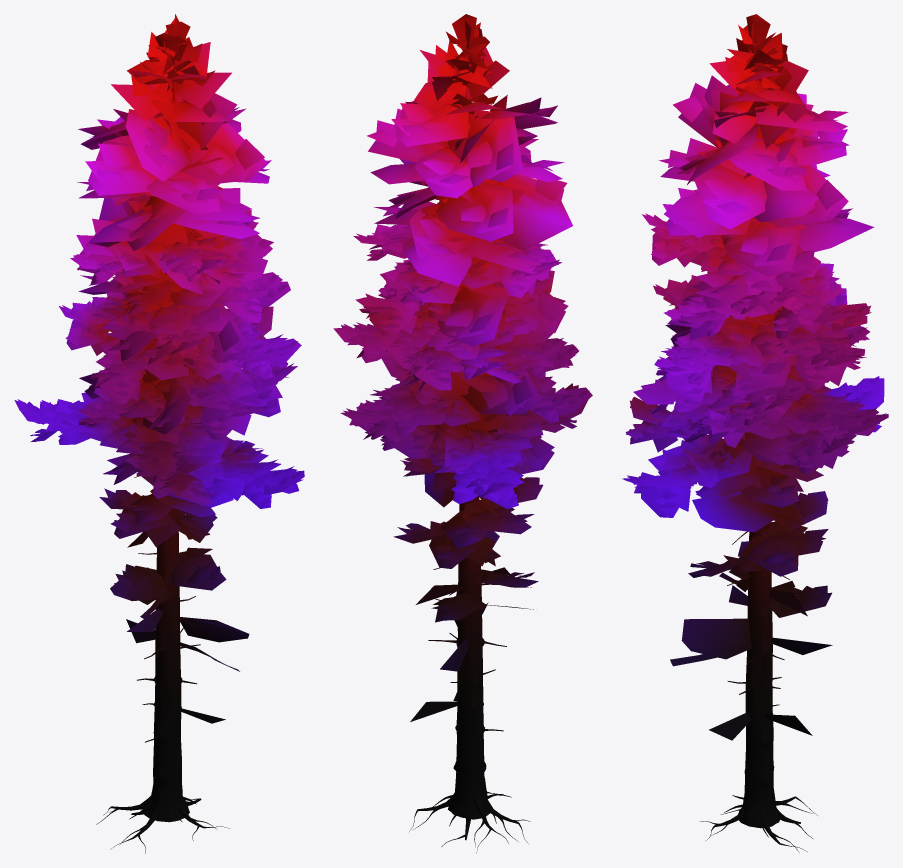
Rendered from Fir_05_Standalone_advanced_cheap.FBX.
3 renders of one model, left to right at view 1: azimuth 30°, elevation 25°; view 2: azimuth 150°, elevation 25°; view 3: azimuth 270°, elevation 25°, orthographic.
Parts seen in each view (by area): view 1: Fir_05_leaves_LOD0, Fir_05_bark_LOD0; view 2: Fir_05_leaves_LOD0, Fir_05_bark_LOD0; view 3: Fir_05_leaves_LOD0, Fir_05_bark_LOD0.
Boxes of the visible parts, <box> form: Fir_05_leaves_LOD0: <box>14,14,304,723</box>; Fir_05_bark_LOD0: <box>96,69,254,853</box>; Fir_05_leaves_LOD0: <box>333,14,592,721</box>; Fir_05_bark_LOD0: <box>409,86,530,852</box>; Fir_05_leaves_LOD0: <box>622,14,888,740</box>; Fir_05_bark_LOD0: <box>700,66,823,852</box>.
Size of what is drawn, in the model's own units: 5309 by 18539 by 5422.
